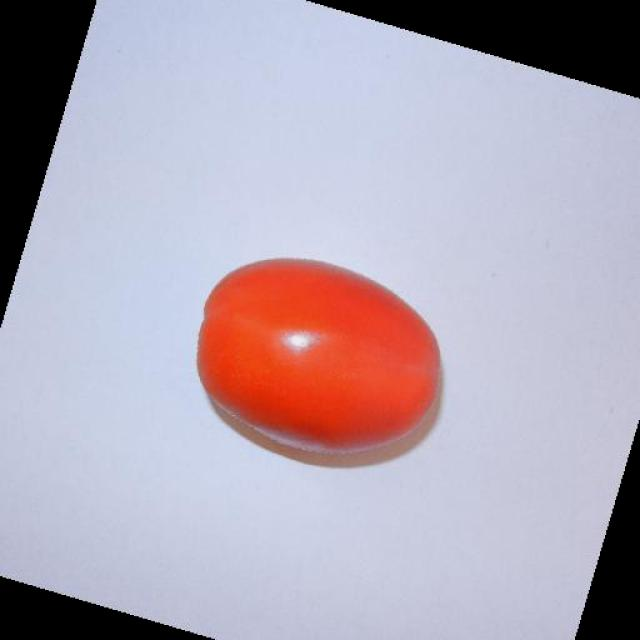tomato: (189, 248, 467, 488)
